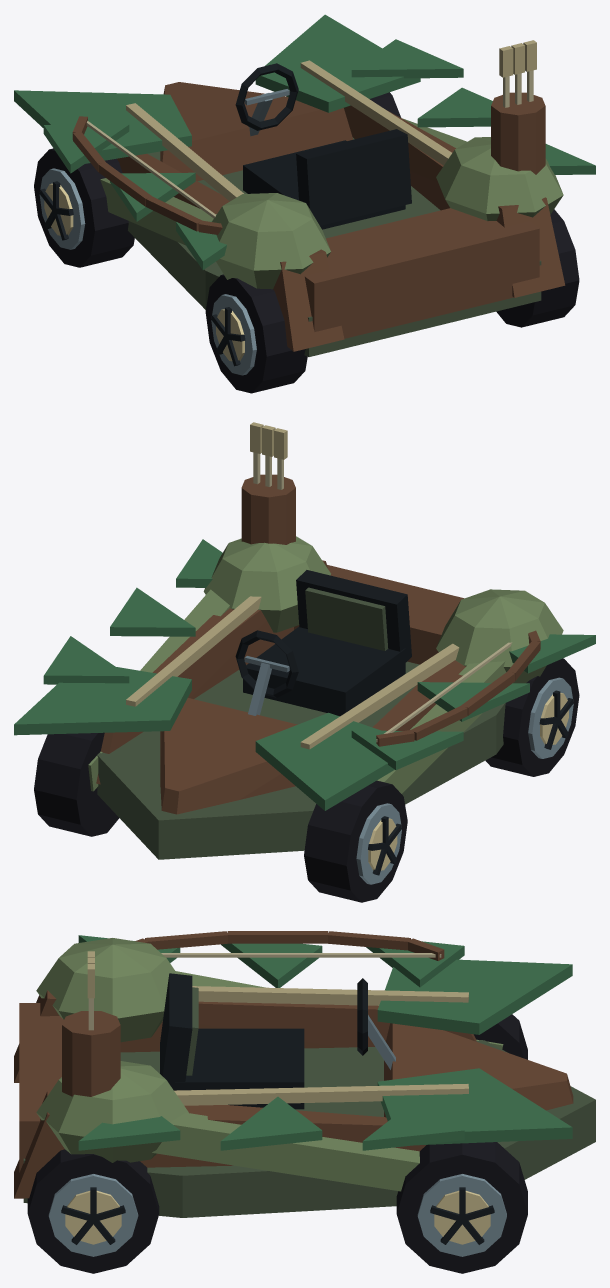
File: kart.glb
3 views of the same model, one above another, from view 1: azimuth 30°, elevation 25°; view 2: azimuth 150°, elevation 25°; view 3: azimuth 270°, elevation 25° (orthographic). The views are drawn at different scales.
Parts seen in each view (by area): view 1: identity-nature-nature-root-cradle-and-leaf-bow, identity-nature-driver-cockpit, identity-nature-motif-leaves, wheel-rear-left, wheel-front-left, identity-nature-motif-quiver, identity-nature-motif-bow, wheel-rear-right; view 2: identity-nature-nature-root-cradle-and-leaf-bow, identity-nature-driver-cockpit, identity-nature-motif-leaves, wheel-front-left, wheel-rear-left, wheel-front-right, identity-nature-motif-quiver, identity-nature-motif-bow; view 3: identity-nature-nature-root-cradle-and-leaf-bow, wheel-front-right, wheel-rear-right, identity-nature-motif-leaves, identity-nature-driver-cockpit, identity-nature-motif-bow, identity-nature-motif-quiver, wheel-front-left.
Part boxes in pixels (box(x1,y1,x2,y2)): identity-nature-nature-root-cradle-and-leaf-bow: box(14, 14, 565, 356); identity-nature-driver-cockpit: box(235, 63, 411, 229); identity-nature-motif-leaves: box(43, 39, 595, 269); wheel-rear-left: box(205, 274, 307, 393); wheel-front-left: box(34, 148, 134, 267); identity-nature-motif-quiver: box(491, 40, 545, 174); identity-nature-motif-bow: box(72, 116, 222, 234); wheel-rear-right: box(496, 209, 579, 327); identity-nature-nature-root-cradle-and-leaf-bow: box(14, 536, 563, 859); identity-nature-driver-cockpit: box(235, 570, 411, 716); identity-nature-motif-leaves: box(43, 539, 595, 769); wheel-front-left: box(304, 780, 407, 902); wheel-rear-left: box(485, 658, 579, 776); wheel-front-right: box(34, 732, 119, 836); identity-nature-motif-quiver: box(241, 422, 295, 544); identity-nature-motif-bow: box(376, 630, 540, 746); identity-nature-nature-root-cradle-and-leaf-bow: box(14, 938, 595, 1217); wheel-front-right: box(396, 1142, 527, 1273); wheel-rear-right: box(27, 1149, 159, 1273); identity-nature-motif-leaves: box(78, 935, 464, 1150); identity-nature-driver-cockpit: box(160, 973, 395, 1109); identity-nature-motif-bow: box(135, 931, 444, 960); identity-nature-motif-quiver: box(62, 951, 120, 1096); wheel-front-left: box(474, 1014, 527, 1059).
Bounding box in the file's own units: 2.3 × 1.54 × 2.75.
